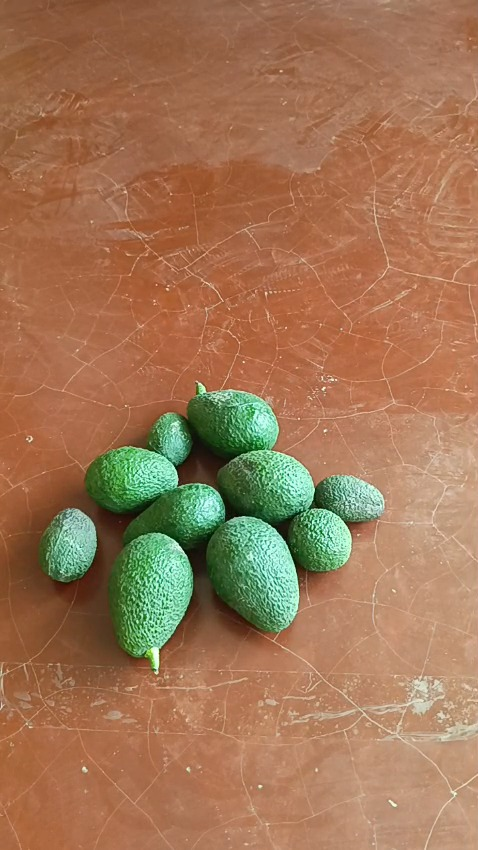Primera: (106, 531, 195, 659), (206, 515, 300, 632), (216, 450, 314, 524), (187, 390, 278, 457), (311, 474, 385, 523)
Segunda: (123, 481, 227, 550), (84, 446, 178, 513)
Tercera: (37, 507, 98, 582), (286, 508, 352, 572), (146, 411, 194, 466)
